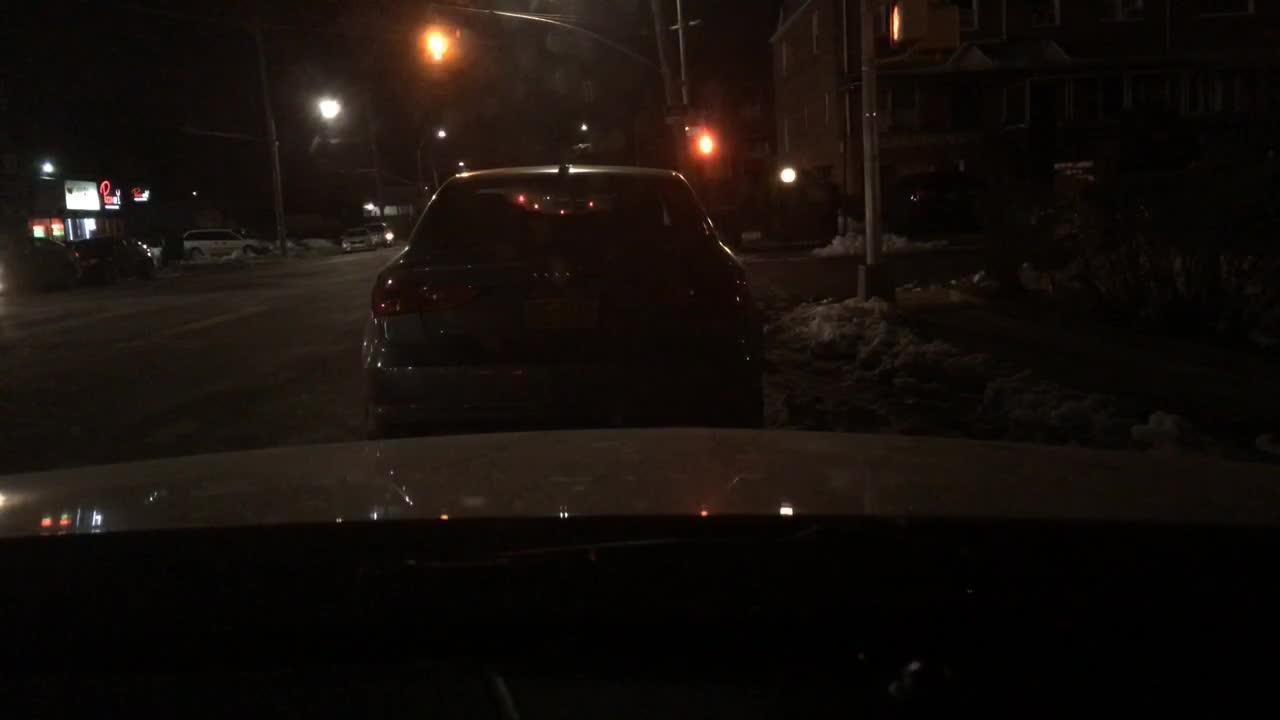Audi: (524, 267, 579, 284)
